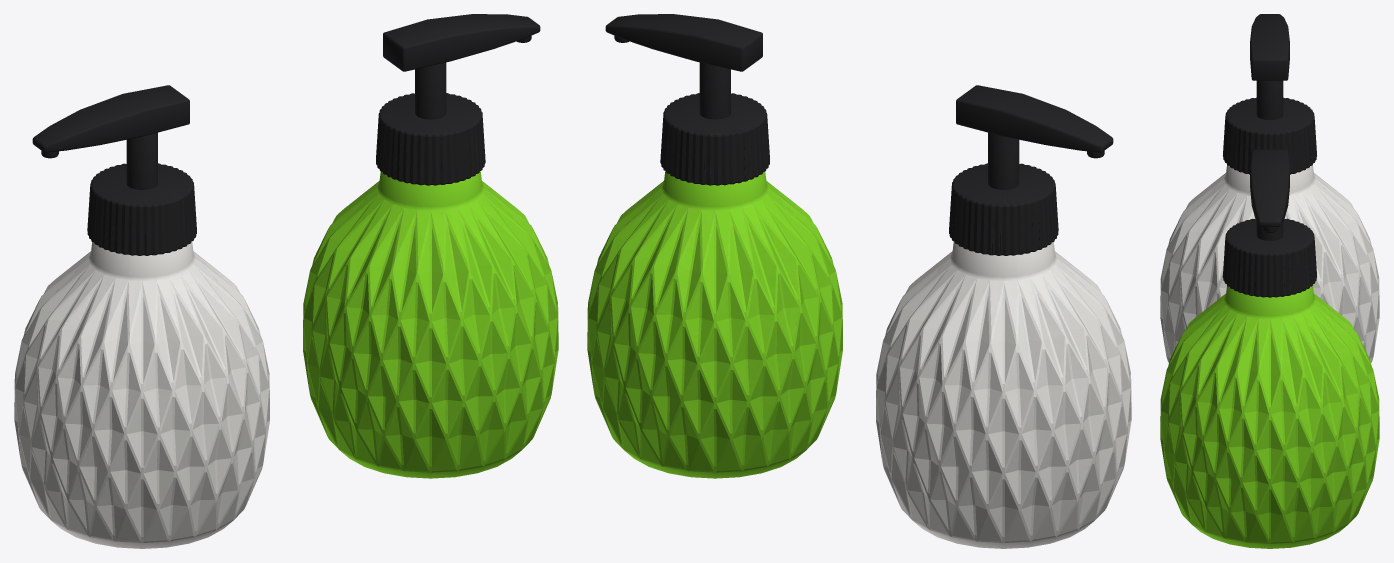
The model's file is hand-wash-bottle-duo.glb.
3 views of the same model, side by side, from view 1: azimuth 30°, elevation 25°; view 2: azimuth 150°, elevation 25°; view 3: azimuth 270°, elevation 25° (orthographic). The views are drawn at different scales.
Parts seen in each view (by area): view 1: LimexBottleWhite, LimexBottleGreen; view 2: LimexBottleWhite, LimexBottleGreen; view 3: LimexBottleGreen, LimexBottleWhite.
Boxes of the visible parts, x1,y1,x2,y2 form: LimexBottleWhite: [14, 85, 269, 548]; LimexBottleGreen: [303, 14, 558, 478]; LimexBottleWhite: [876, 85, 1131, 548]; LimexBottleGreen: [587, 14, 842, 478]; LimexBottleGreen: [1160, 149, 1379, 548]; LimexBottleWhite: [1160, 14, 1379, 362].
Bounding box in the file's own units: 0.2546 × 0.1959 × 0.1106.
Materials: 2 (2 with a texture image).
